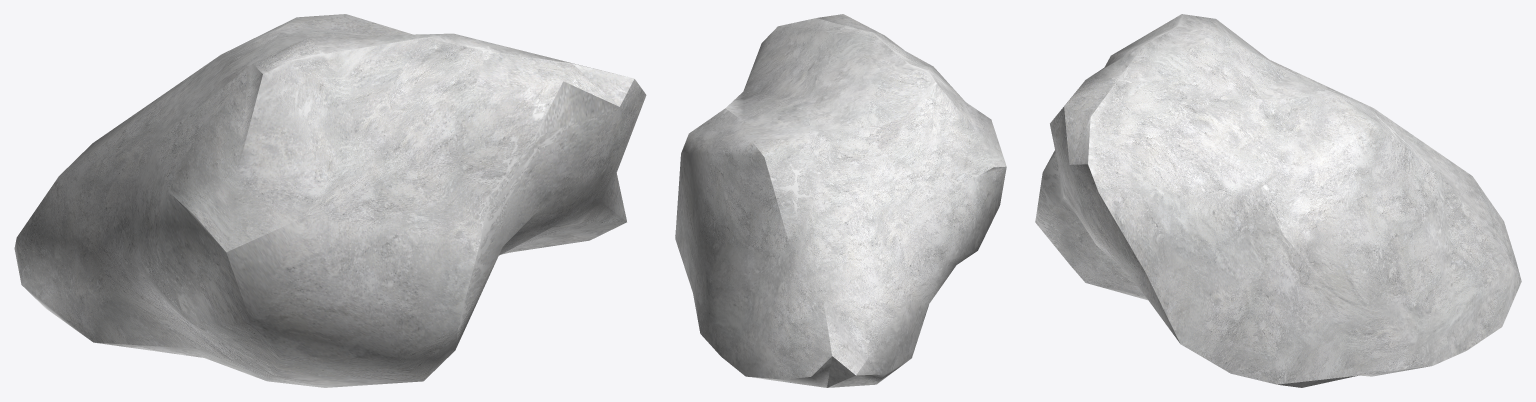
File: rock_00F_lp2.fbx
The picture shows the model from 3 angles, left to right: view 1: azimuth 30°, elevation 25°; view 2: azimuth 150°, elevation 25°; view 3: azimuth 270°, elevation 25°; orthographic projection. The views are drawn at different scales.
Parts seen in each view (by area): view 1: rock_00F_lp2; view 2: rock_00F_lp2; view 3: rock_00F_lp2.
Boxes of the visible parts, x1=… form: rock_00F_lp2: x1=14, y1=14, x2=646, y2=387; rock_00F_lp2: x1=675, y1=14, x2=1006, y2=387; rock_00F_lp2: x1=1035, y1=14, x2=1521, y2=387.
Bounding box in the file's own units: 173 × 137 × 205.
